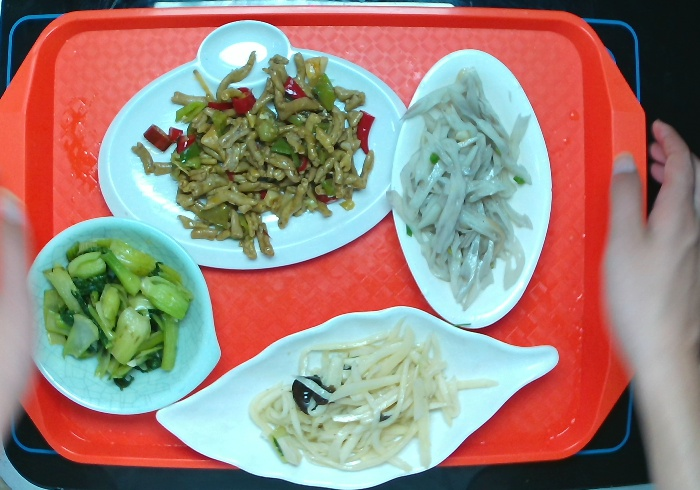RJxy-Bai_Se_Tuo_Yuan: (391, 46, 553, 330)
RJxy-Shu_Ye_Pan: (154, 305, 565, 490)
RJxy-Xiao_Jiao_Yuan_Wan: (16, 212, 225, 422)
RJxy-Zhan_Liao_Pan: (95, 18, 412, 269)
